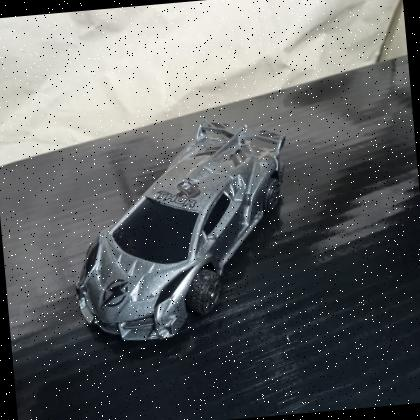Car: (55, 103, 307, 351)
